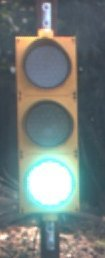Green: (7, 27, 79, 243)
